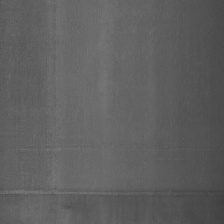welding_line: (1, 190, 224, 201)
